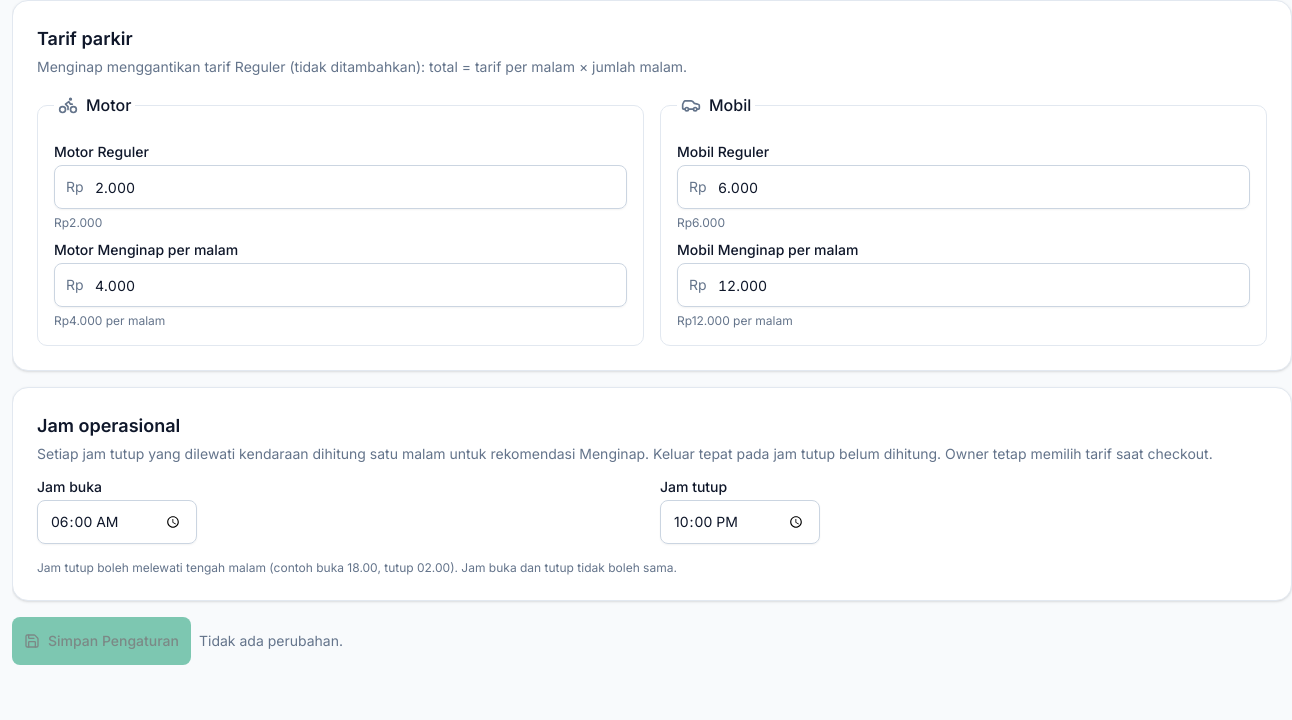
it: client validation (server stays authoritative) › amount 0 blocks saving
Replace the text in the field labelled "Mobil Reguler" with "0": (964, 187) [677,165,1250,209]
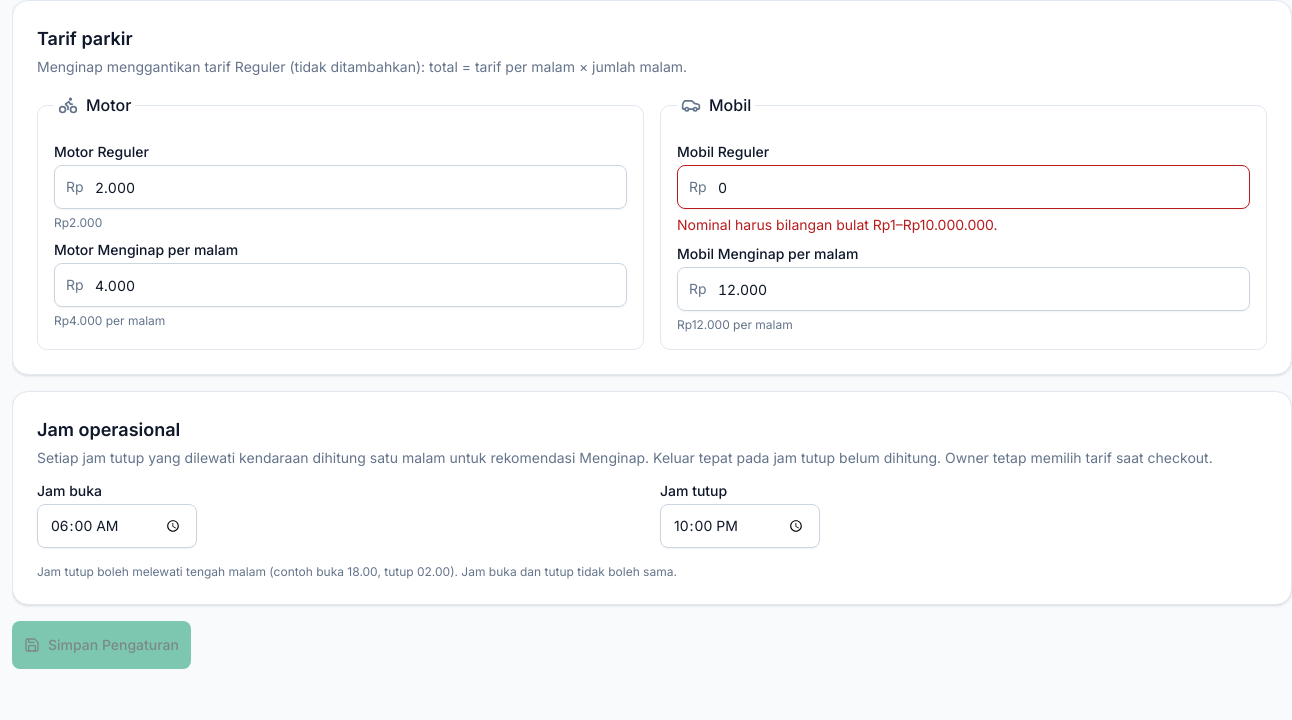
Check: the button "Simpan Pengaturan" is disabled, box [12,621,191,669]
Check: the message shows "Rp1–Rp10.000.000", box [677,216,998,233]
